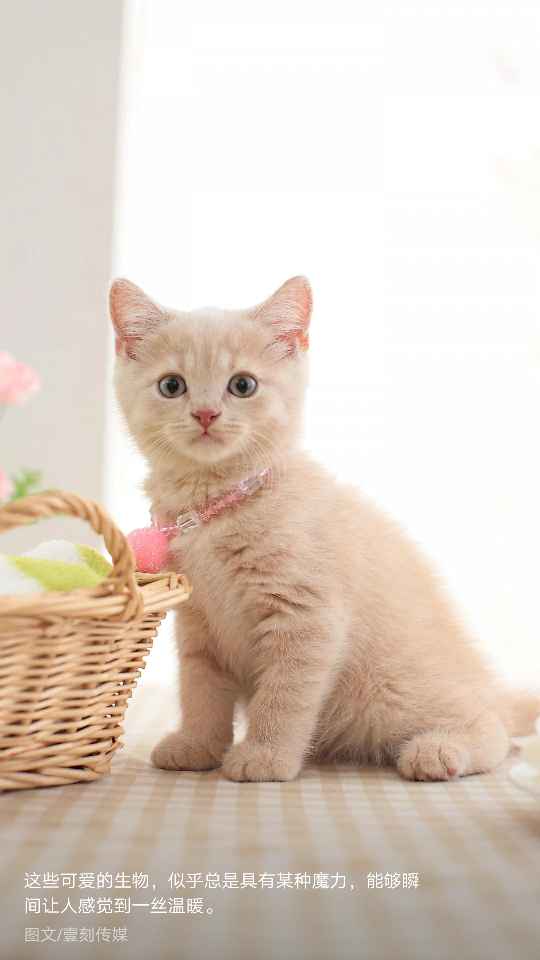cat: (104, 274, 534, 781)
